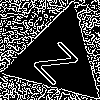Z: (32, 32, 87, 87)
